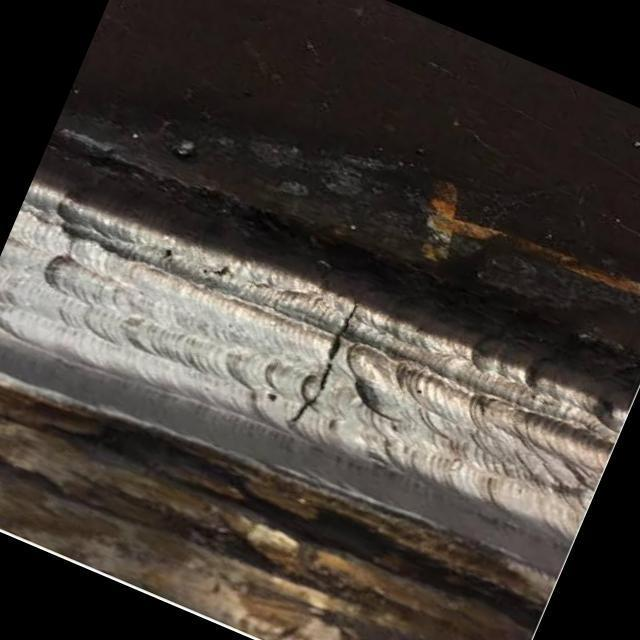defect: (288, 297, 361, 425)
